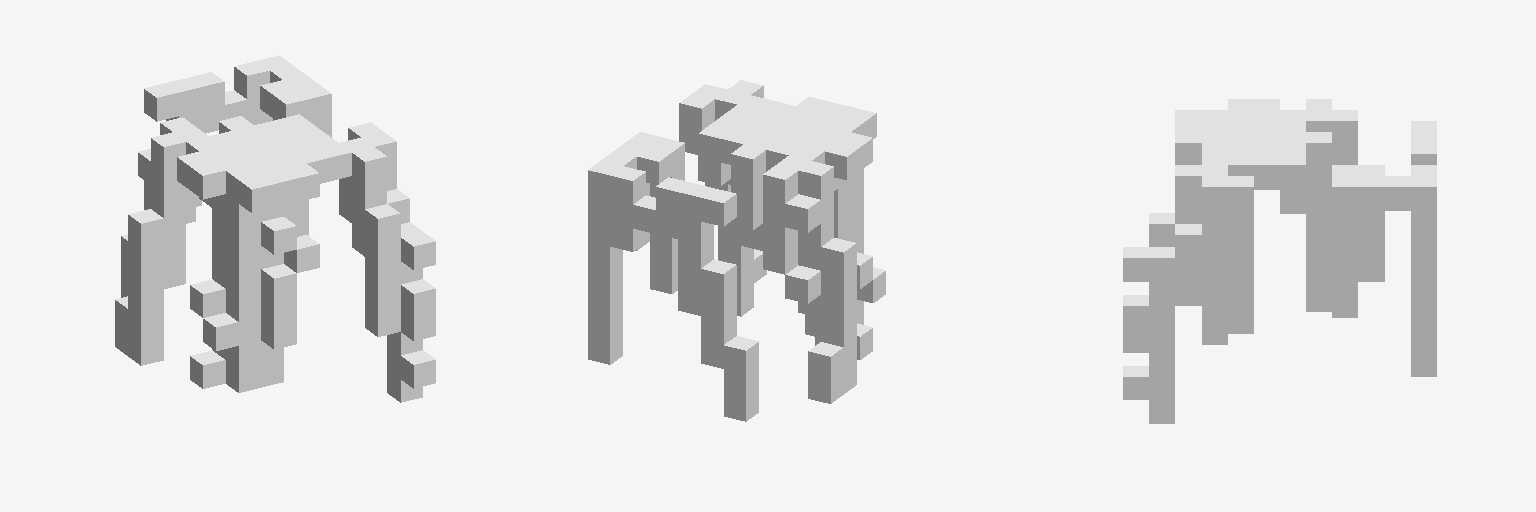
The model's file is lvl2-3.obj.
The picture shows the model from 3 angles: view 1: azimuth 30°, elevation 25°; view 2: azimuth 150°, elevation 25°; view 3: azimuth 270°, elevation 25°; orthographic projection.
Parts seen in each view (by area): view 1: object 1; view 2: object 1; view 3: object 1.
Part boxes in pixels (x1,y1,x2,y2): object 1: (115,55,435,402); object 1: (588,80,885,421); object 1: (1123,99,1436,423).
Bounding box in the file's own units: 0.9 × 1 × 1.2.